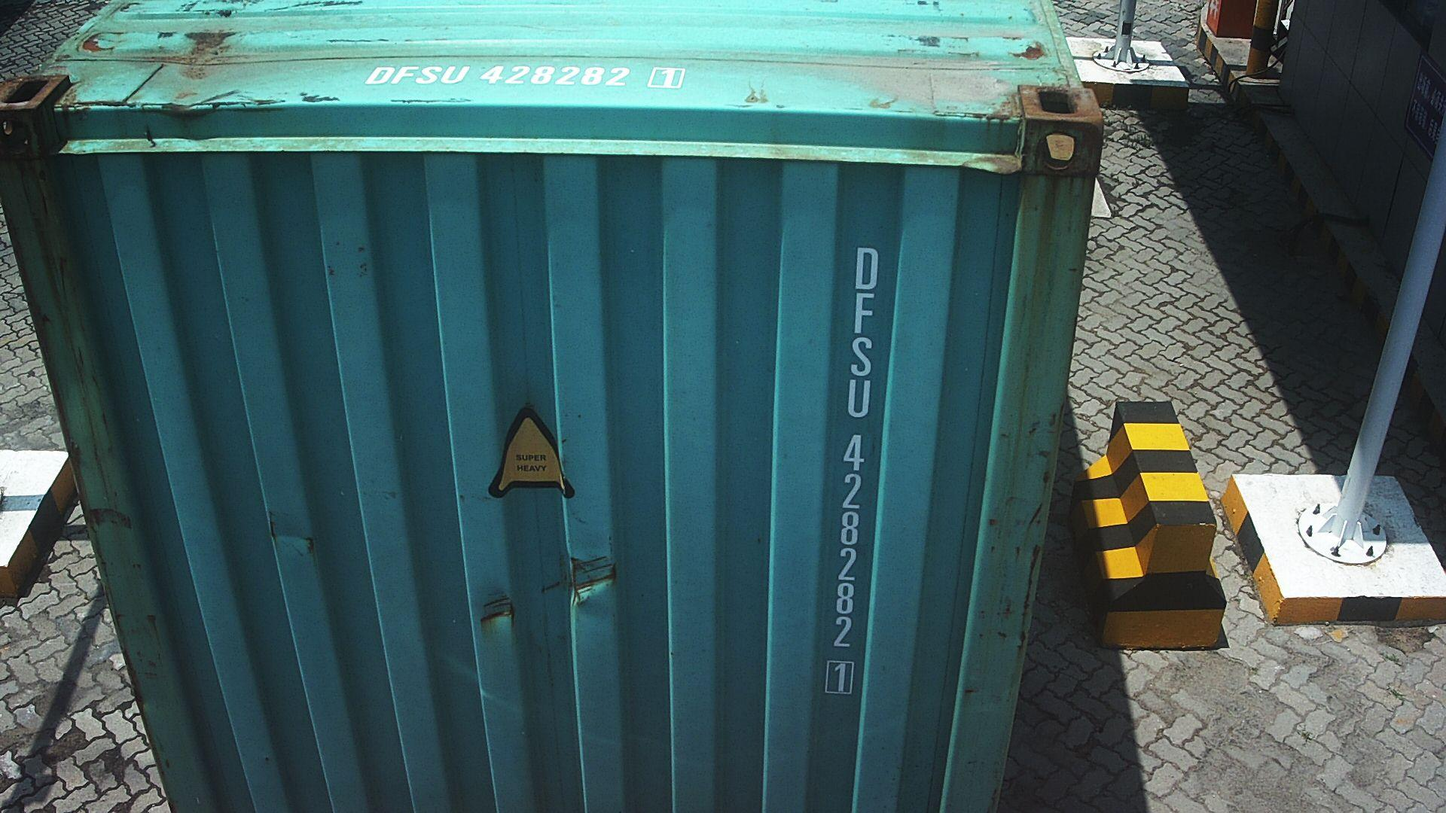container-numbers: (821, 242, 884, 700), (356, 59, 691, 93)
